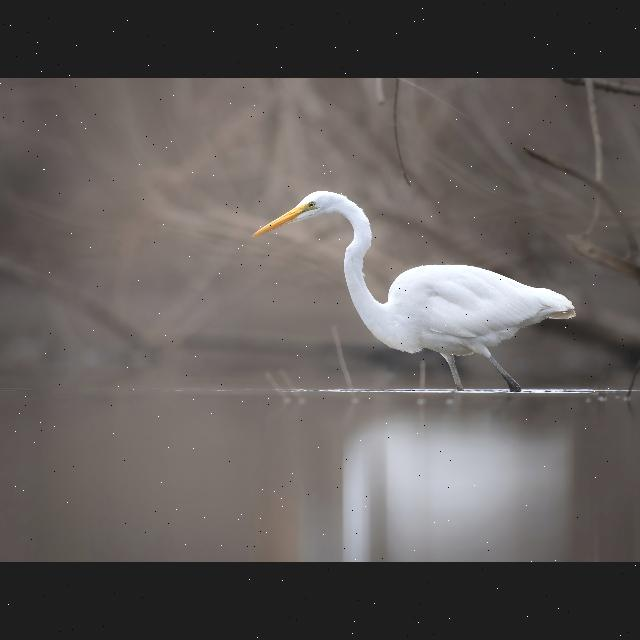egret: (248, 186, 580, 390)
